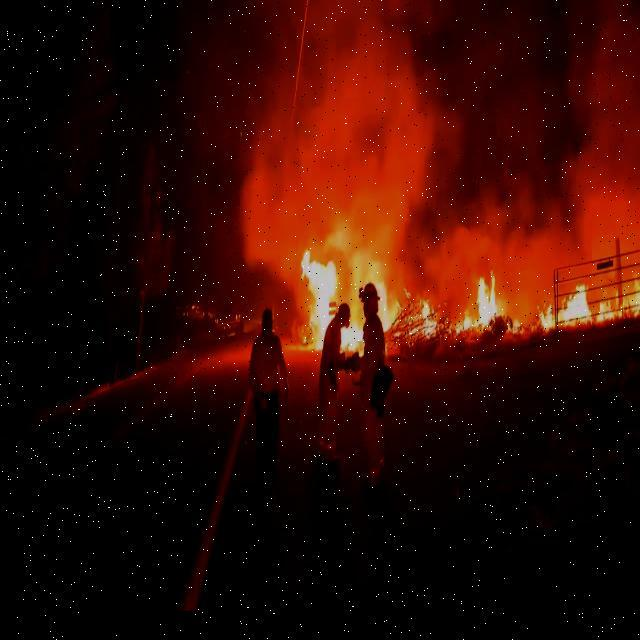Fire: (297, 252, 397, 366), (406, 290, 499, 363), (538, 298, 639, 352)
